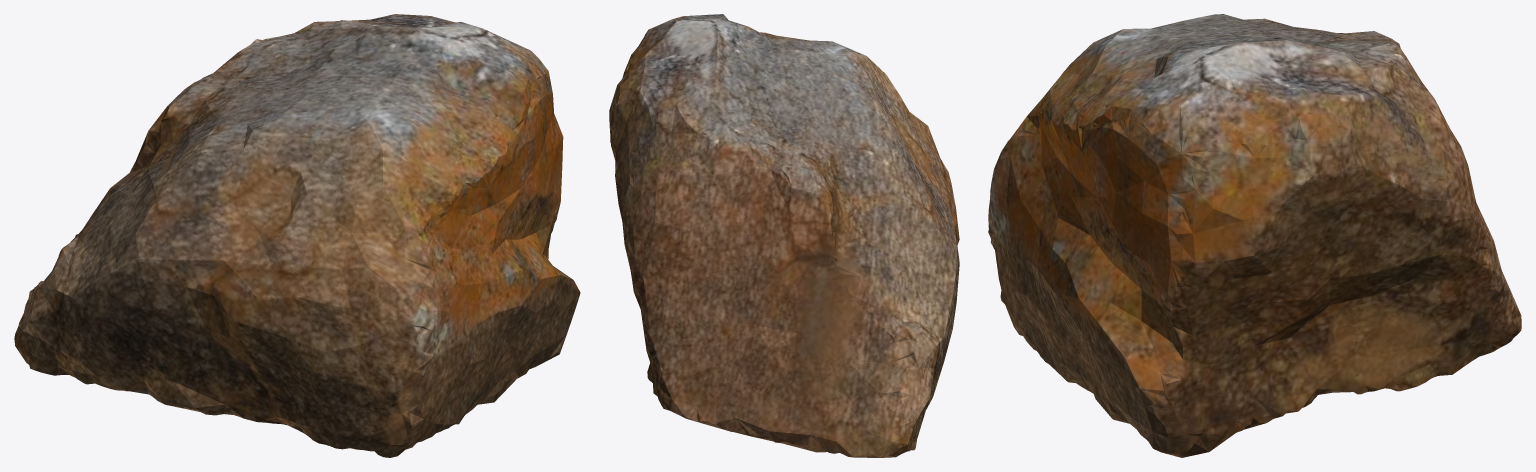
Rendered from boulder.glb.
3 views of the same model, side by side, from view 1: azimuth 30°, elevation 25°; view 2: azimuth 150°, elevation 25°; view 3: azimuth 270°, elevation 25° (orthographic). The views are drawn at different scales.
Parts seen in each view (by area): view 1: boulder_b04_corrected; view 2: boulder_b04_corrected; view 3: boulder_b04_corrected.
Part boxes in pixels (left/top/right/bottom): boulder_b04_corrected: left=14, top=14, right=580, bottom=457; boulder_b04_corrected: left=609, top=14, right=959, bottom=457; boulder_b04_corrected: left=988, top=14, right=1521, bottom=457.
Size of the model in its own units: 1.56 by 1.17 by 1.54.
1 material, 1 textured.
